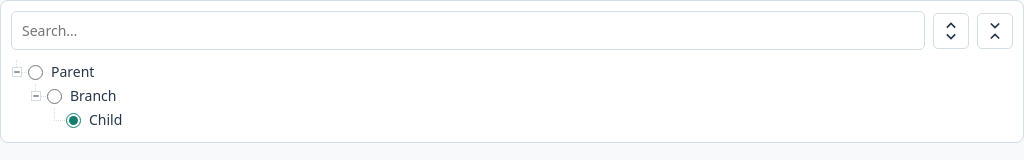
keeps both global buttons visible and preserves selections during expansion and search
expect the button named "Collapse Parent" is shown: met, box [12,67,22,77]
expect the icon with class "tree-chevron-collapse" is shown: met, box [985,20,1005,40]
Click the button named "Collapse all": (995, 30) [977,12,1013,48]
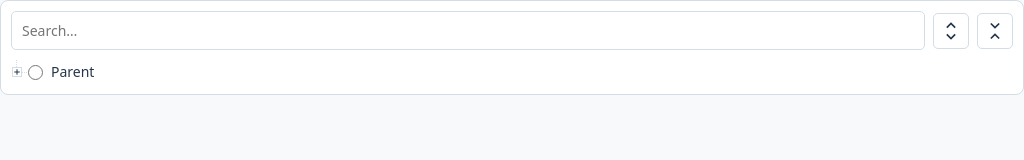
expect the icon with class "tree-chevron-expand" is shown: met, box [941,20,961,40]
Click the button named "Expand all": (951, 30) [933,12,969,48]
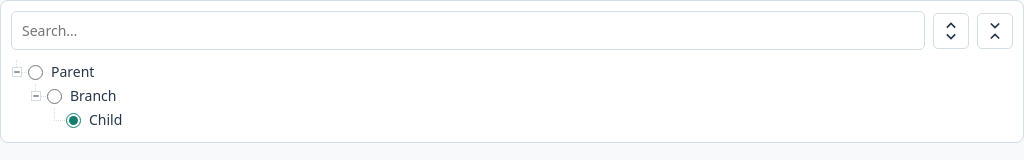
expect the radio button labelled "Child" is checked: met, box [66,112,81,128]
In the search field named "Search tree": (468, 30) [11,11,925,50], type "Child"
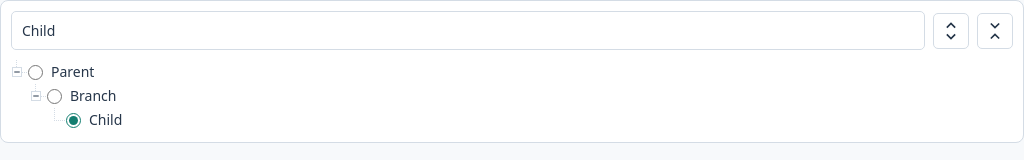
Click the button named "Collapse all": (995, 30) [977,12,1013,48]
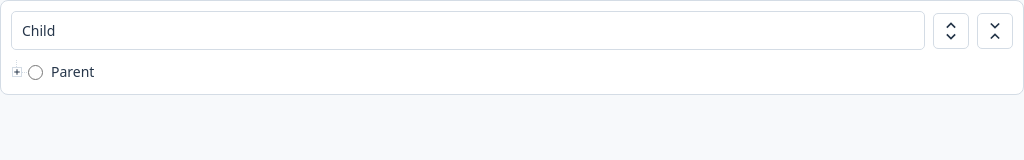
Click the button named "Expand all": (951, 30) [933,12,969,48]
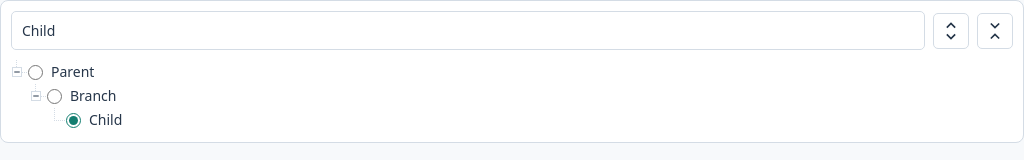
expect the radio button labelled "Child" is checked: met, box [66,112,81,128]
